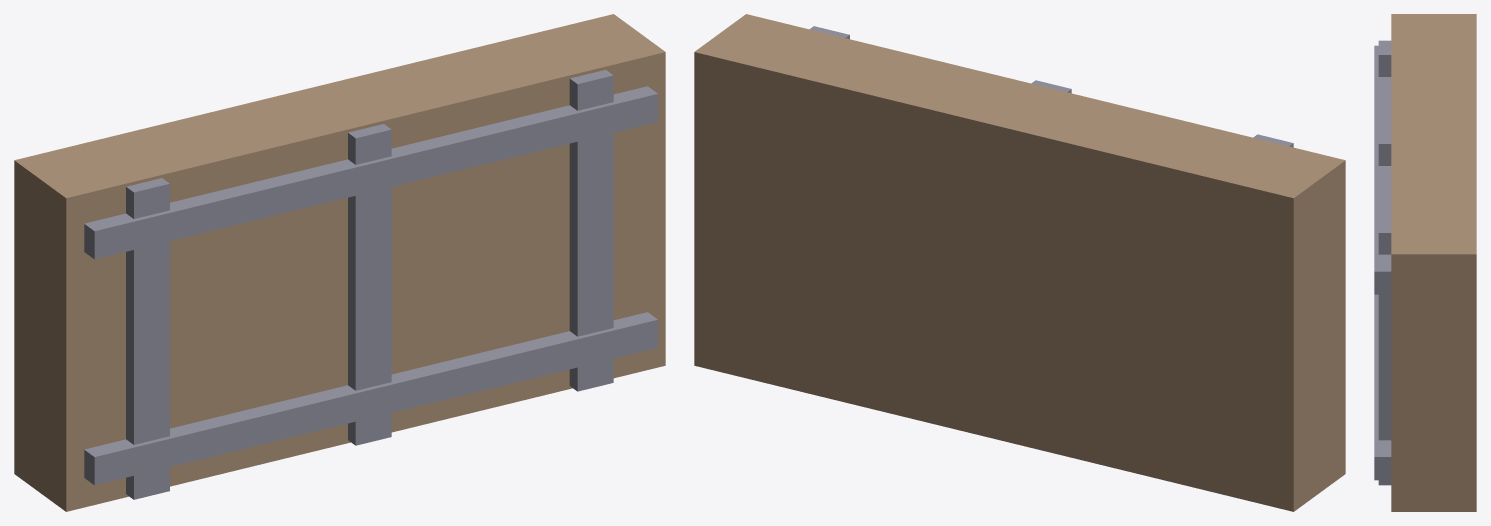
The model's file is compuerta_hoja.glb.
The picture shows the model from 3 angles, left to right: view 1: azimuth 30°, elevation 25°; view 2: azimuth 150°, elevation 25°; view 3: azimuth 270°, elevation 25°; orthographic projection. The views are drawn at different scales.
Parts seen in each view (by area): view 1: compuerta_hoja; view 2: compuerta_hoja; view 3: compuerta_hoja.
Boxes of the visible parts, box(x1,y1,x2,y2) form: compuerta_hoja: box(14, 14, 665, 511); compuerta_hoja: box(694, 14, 1345, 511); compuerta_hoja: box(1374, 14, 1476, 511).
Size of the model in its own units: 1 by 0.5 by 0.18.
